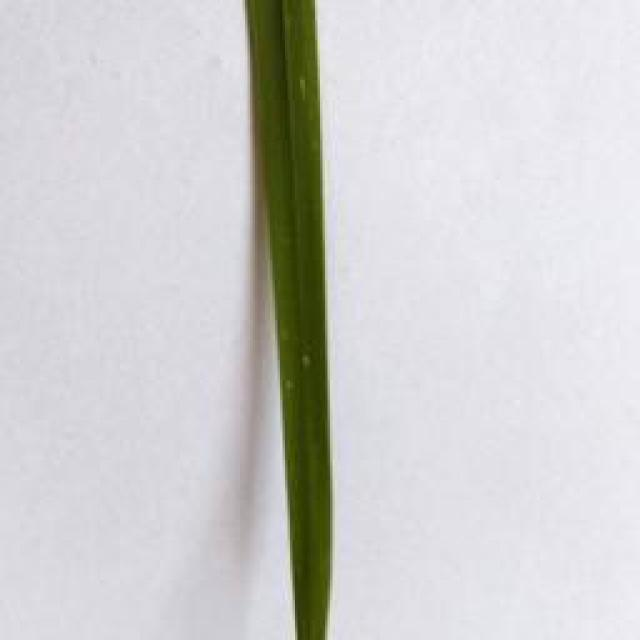Healthy-Plant: (247, 0, 336, 640)
